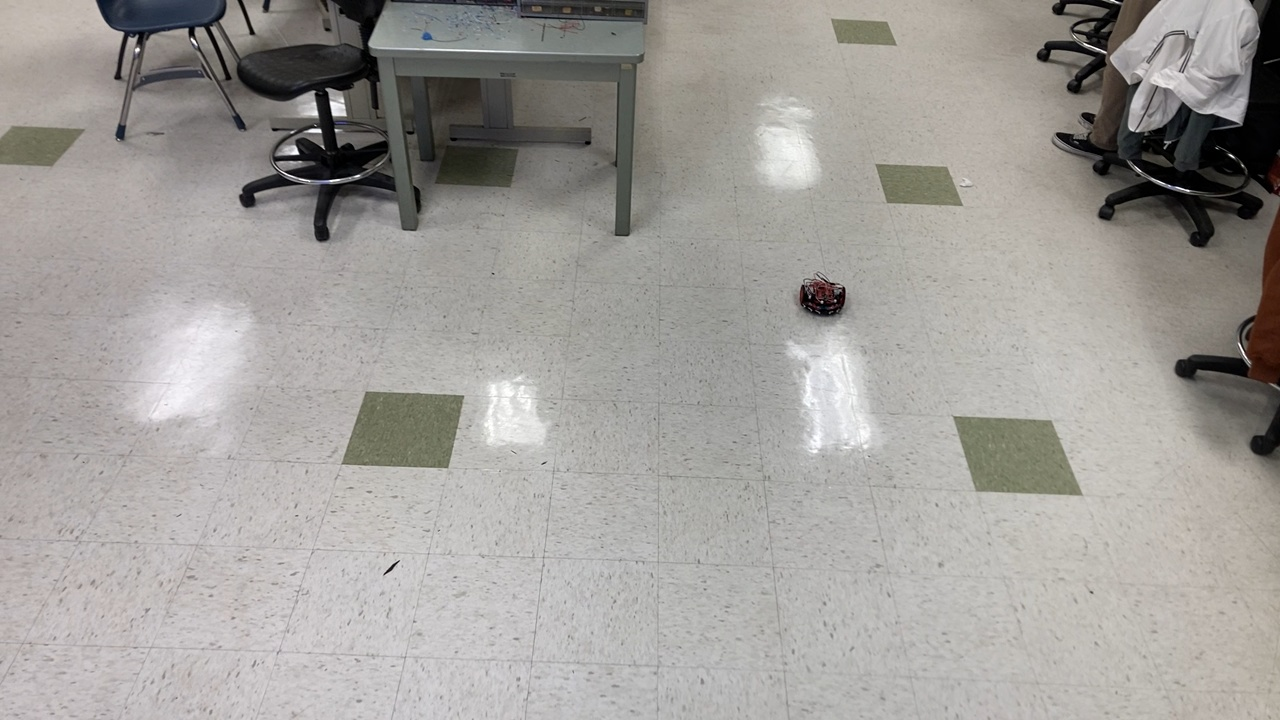robot: (795, 272, 849, 320)
